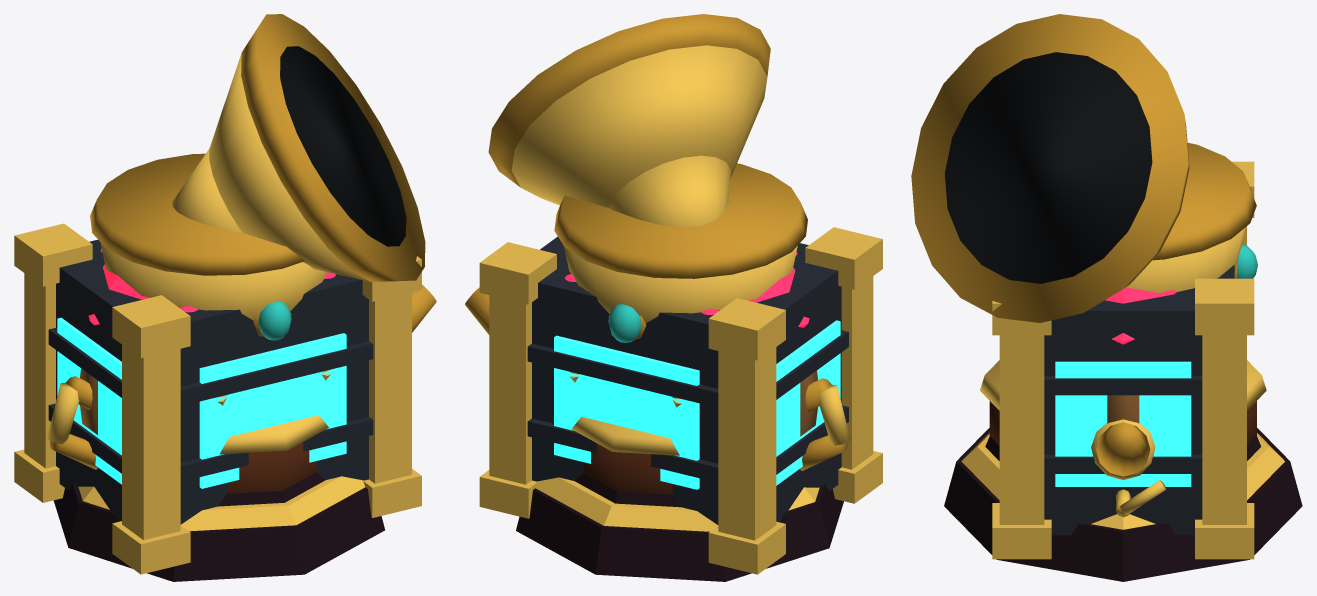
The model's file is v090_ahsarah_collectibles.glb.
The picture shows the model from 3 angles, left to right: view 1: azimuth 30°, elevation 25°; view 2: azimuth 150°, elevation 25°; view 3: azimuth 270°, elevation 25°; orthographic projection. The views are drawn at different scales.
Visible parts, largest first — view 1: loot_mandel_brick, loot_reis_gramophone, loot_ahsarah_royal_chalice, loot_heart_of_africa, loot_brakkesh_brass_lamp, loot_fiery_owl_crest; view 2: loot_mandel_brick, loot_reis_gramophone, loot_ahsarah_royal_chalice, loot_heart_of_africa, loot_brakkesh_brass_lamp, loot_fiery_owl_crest; view 3: loot_reis_gramophone, loot_mandel_brick, loot_heart_of_africa, loot_ahsarah_royal_chalice, loot_brakkesh_brass_lamp, loot_fiery_owl_crest.
Boxes of the visible parts, bbox=[...] form: loot_mandel_brick: bbox=[14, 223, 421, 574]; loot_reis_gramophone: bbox=[172, 14, 425, 493]; loot_ahsarah_royal_chalice: bbox=[90, 153, 335, 340]; loot_heart_of_africa: bbox=[53, 264, 384, 581]; loot_brakkesh_brass_lamp: bbox=[47, 284, 436, 469]; loot_fiery_owl_crest: bbox=[80, 368, 97, 434]; loot_mandel_brick: bbox=[479, 227, 882, 574]; loot_reis_gramophone: bbox=[488, 14, 770, 494]; loot_ahsarah_royal_chalice: bbox=[554, 163, 807, 342]; loot_heart_of_africa: bbox=[516, 267, 843, 581]; loot_brakkesh_brass_lamp: bbox=[465, 287, 850, 470]; loot_fiery_owl_crest: bbox=[800, 370, 817, 436]; loot_reis_gramophone: bbox=[911, 14, 1266, 517]; loot_mandel_brick: bbox=[992, 161, 1254, 559]; loot_heart_of_africa: bbox=[944, 287, 1302, 581]; loot_ahsarah_royal_chalice: bbox=[1126, 142, 1257, 293]; loot_brakkesh_brass_lamp: bbox=[1091, 419, 1155, 480]; loot_fiery_owl_crest: bbox=[1107, 395, 1139, 423].
Size of the model in its own units: 0.3728 by 0.4475 by 0.3164.
